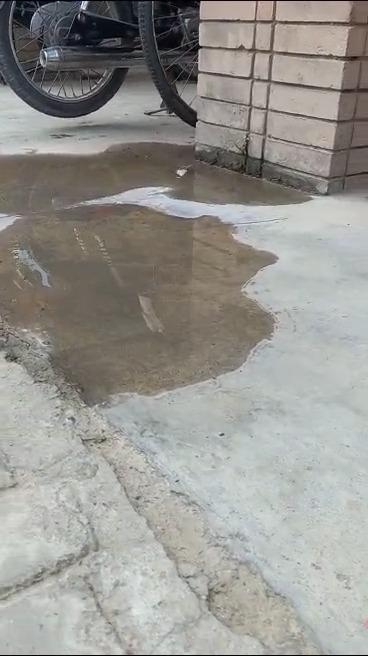water accumulation: (0, 138, 319, 404)
